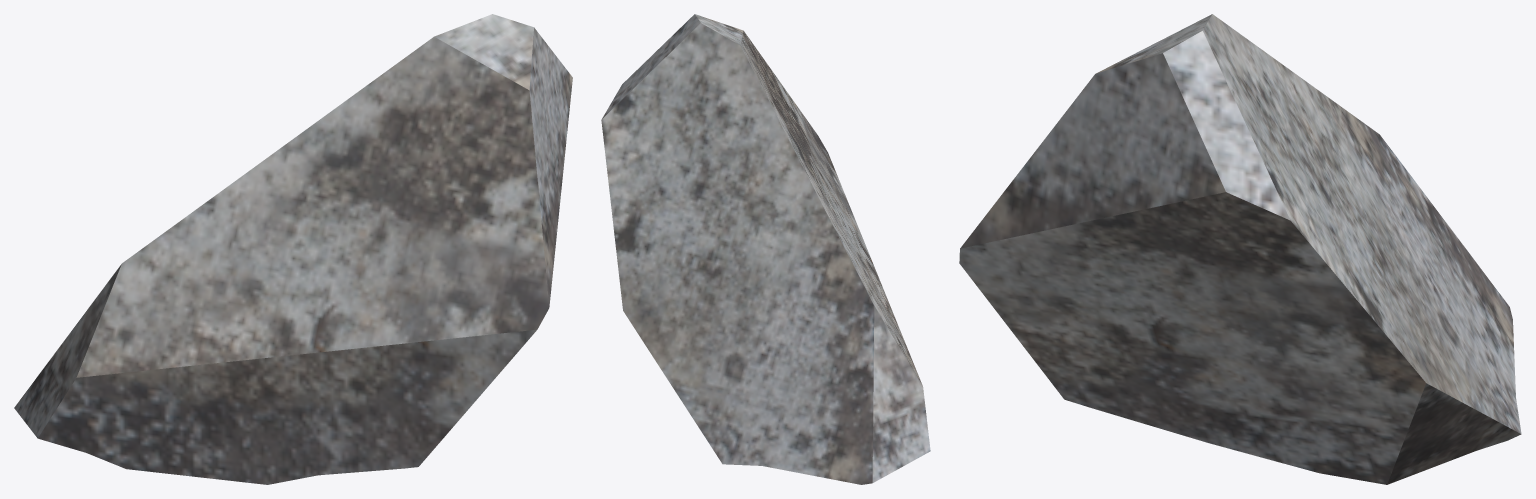
File: Asteroid_Large_001_02_002_03_012.fbx
3 views of the same model, side by side, from view 1: azimuth 30°, elevation 25°; view 2: azimuth 150°, elevation 25°; view 3: azimuth 270°, elevation 25° (orthographic). The views are drawn at different scales.
Visible parts, largest first — view 1: Asteroid_Large_001_02_002_03_012; view 2: Asteroid_Large_001_02_002_03_012; view 3: Asteroid_Large_001_02_002_03_012.
Boxes of the visible parts, left/top/right/bottom form: Asteroid_Large_001_02_002_03_012: left=14, top=14, right=572, bottom=484; Asteroid_Large_001_02_002_03_012: left=601, top=14, right=930, bottom=484; Asteroid_Large_001_02_002_03_012: left=959, top=14, right=1521, bottom=484.
Bounding box in the file's own units: 7.18 × 6.36 × 6.39.
